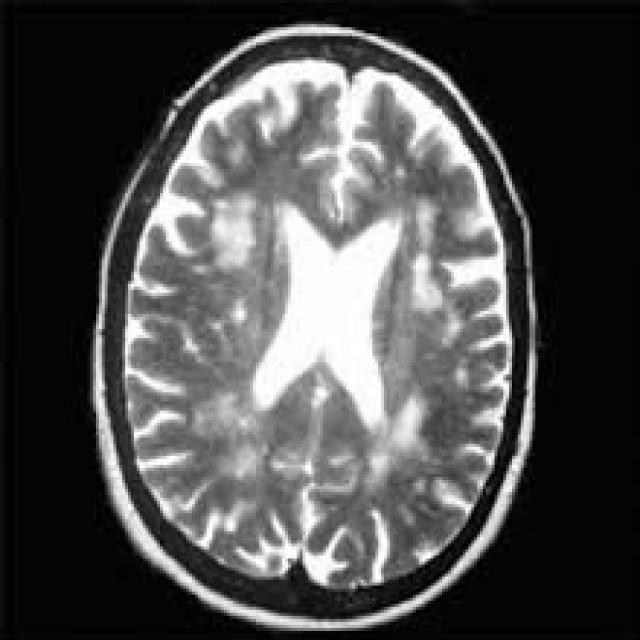No_Tumor: (93, 24, 535, 631)
